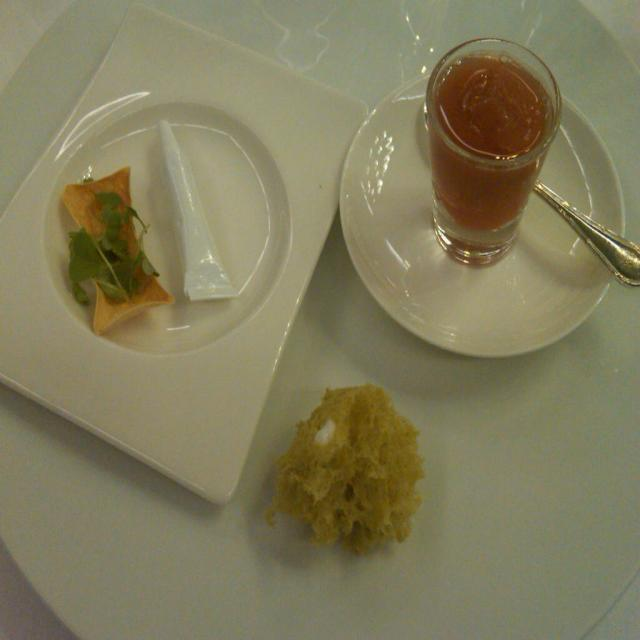non-organic waste: (7, 12, 305, 483)
